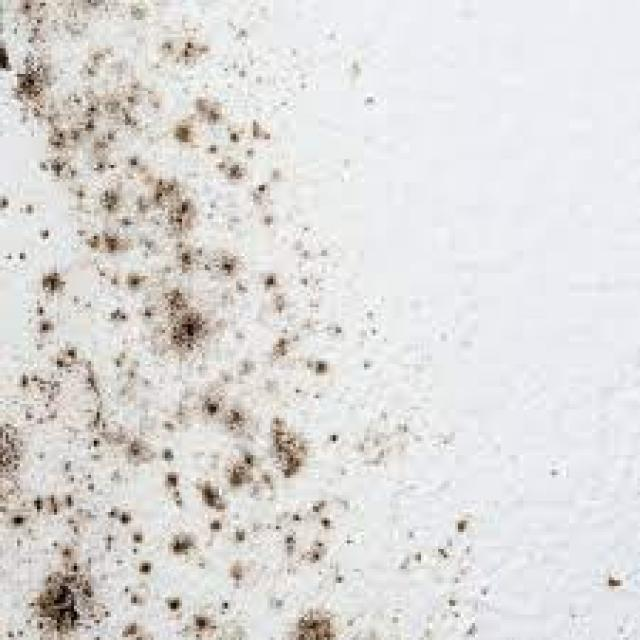Bacterial Injury: (173, 411, 311, 528), (153, 279, 240, 379), (23, 543, 102, 640)
